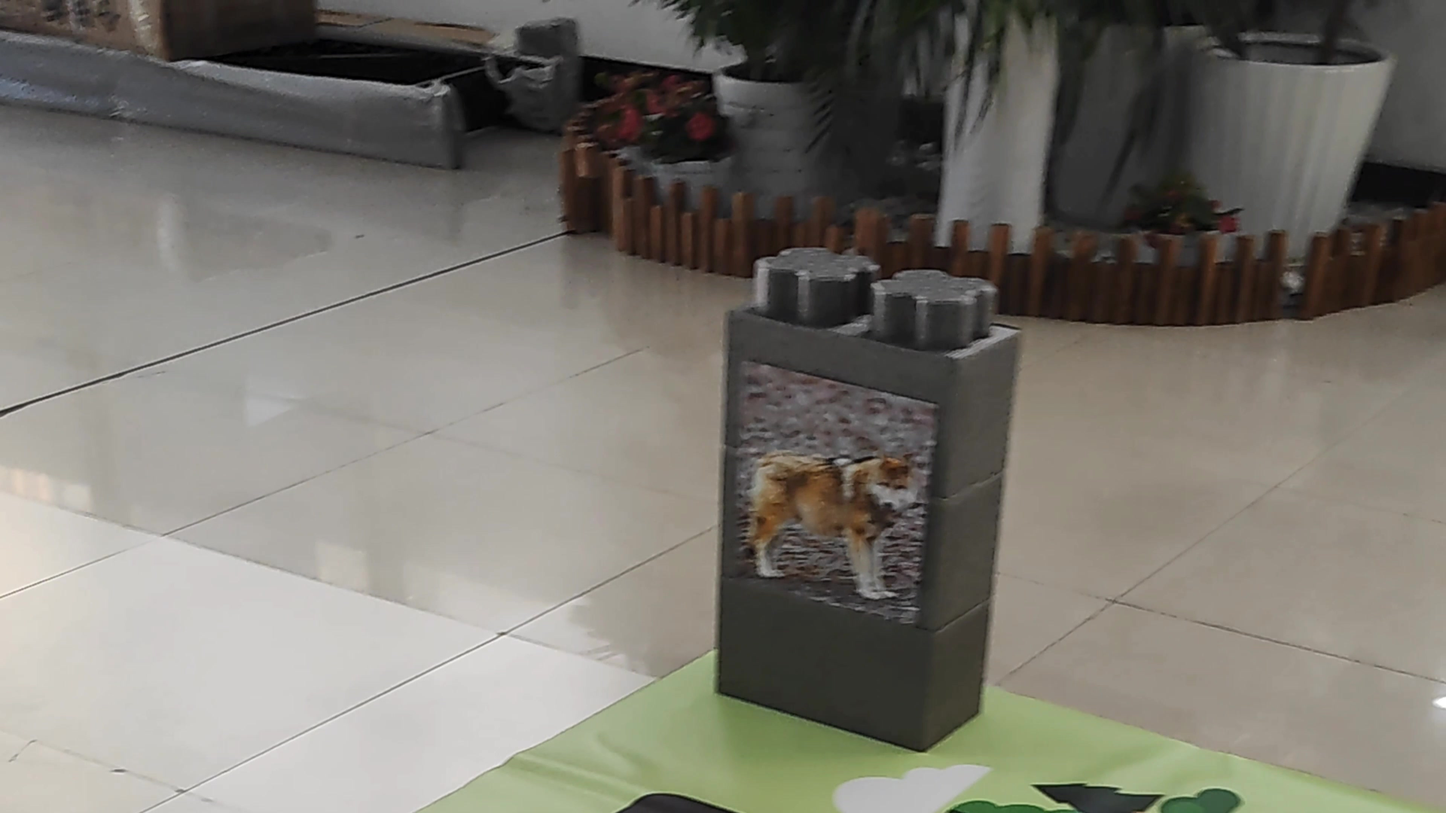wolf: (750, 388, 923, 595)
